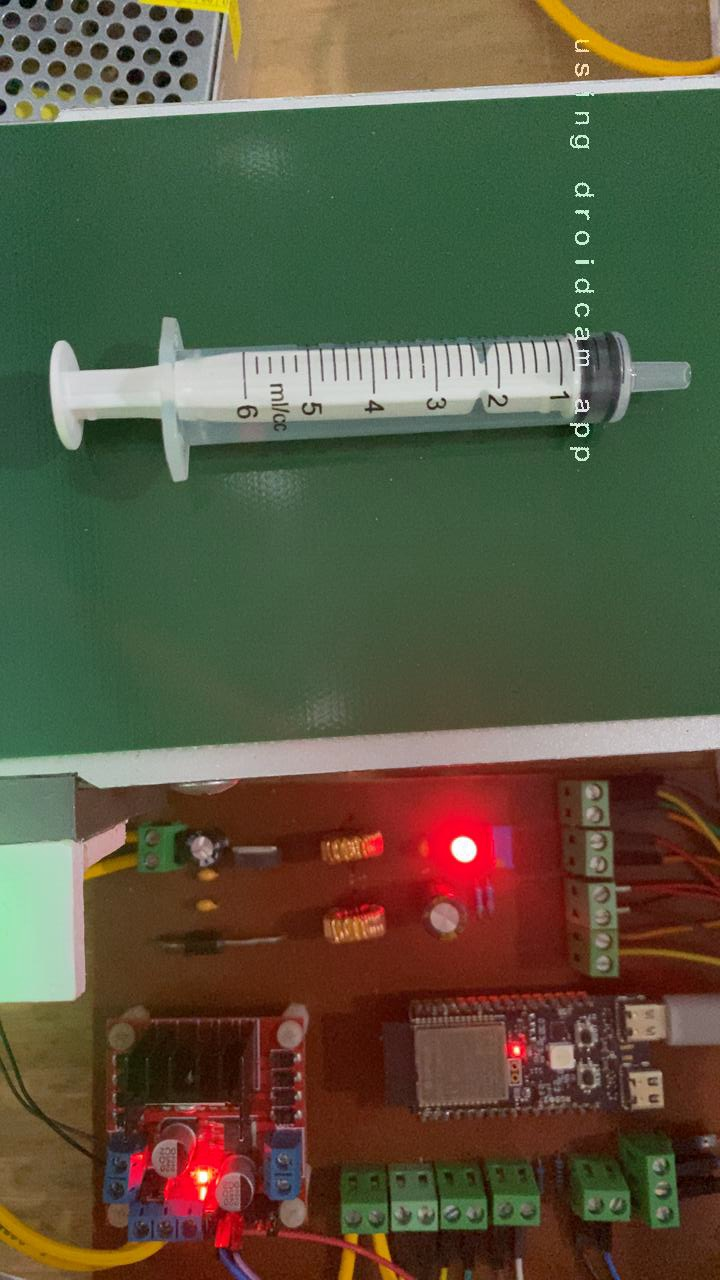syringe: (42, 310, 697, 489)
